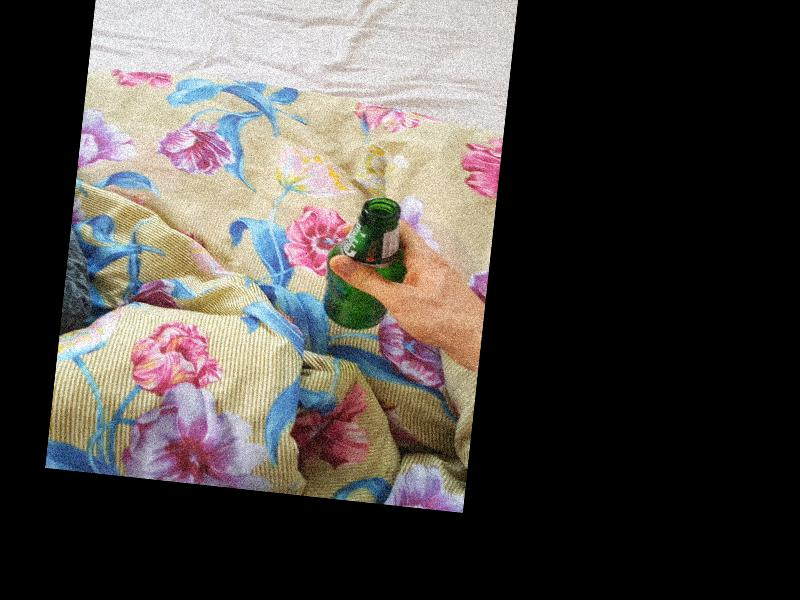Beer: (322, 194, 414, 334)
